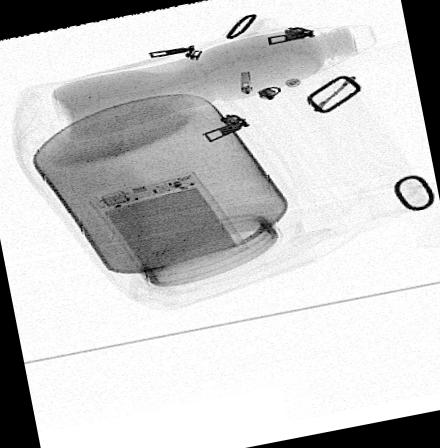Powerbank: (87, 169, 246, 282)
